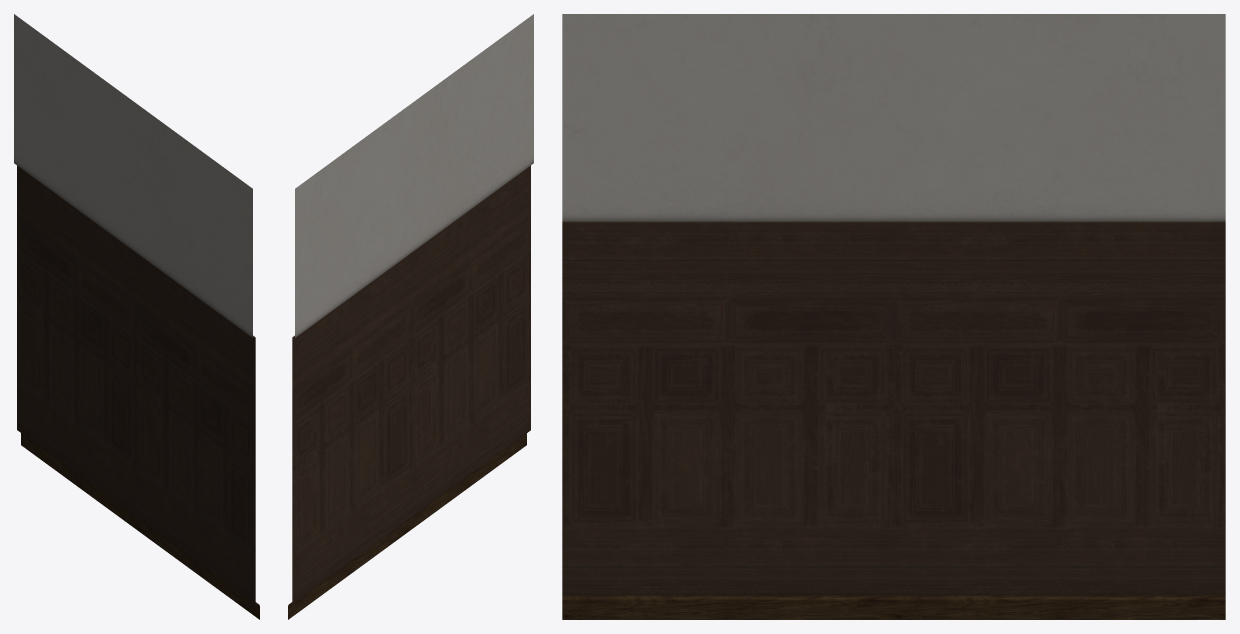
Rendered from Principal Office 4m Wall.fbx.
The picture shows the model from 3 angles, left to right: view 1: azimuth 30°, elevation 25°; view 2: azimuth 150°, elevation 25°; view 3: azimuth 270°, elevation 25°; orthographic projection. The views are drawn at different scales.
Parts seen in each view (by area): view 1: Principle_Office_4M_Wall; view 2: Principle_Office_4M_Wall; view 3: Principle_Office_4M_Wall.
Part boxes in pixels (box(x1,y1,x2,y2)): Principle_Office_4M_Wall: box(14, 14, 259, 619); Principle_Office_4M_Wall: box(288, 14, 533, 619); Principle_Office_4M_Wall: box(562, 14, 1225, 619).
Bounding box in the file's own units: 6.64 × 400 × 400.
